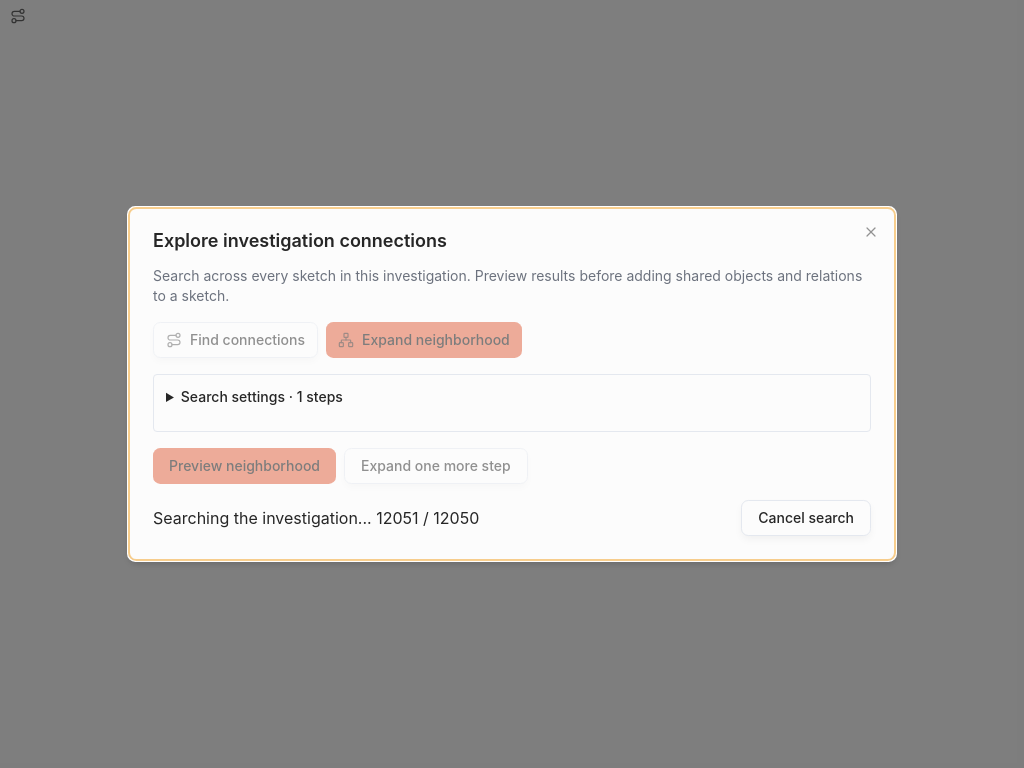
Test: Complete, paged investigation search › cannot apply partial running results and can cancel
Click the button "Cancel search": click(806, 518) [741,500,871,536]
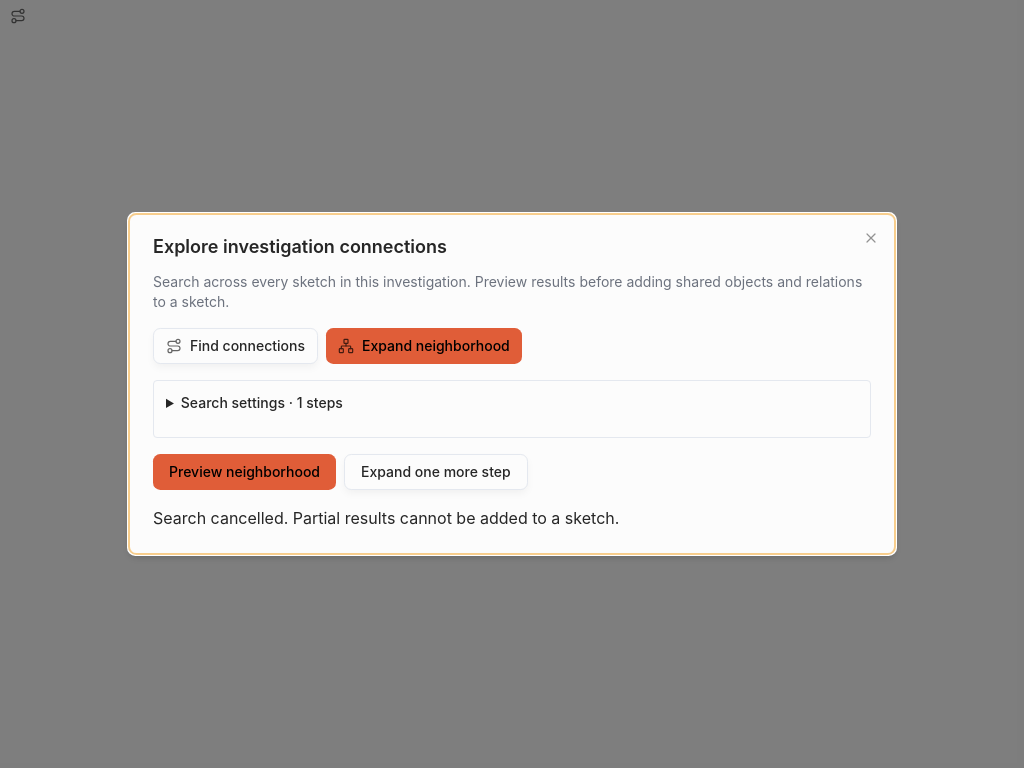
Expected: the text "Search cancelled. Partial results cannot be added to a sketch." is shown, [153,508,619,528]
